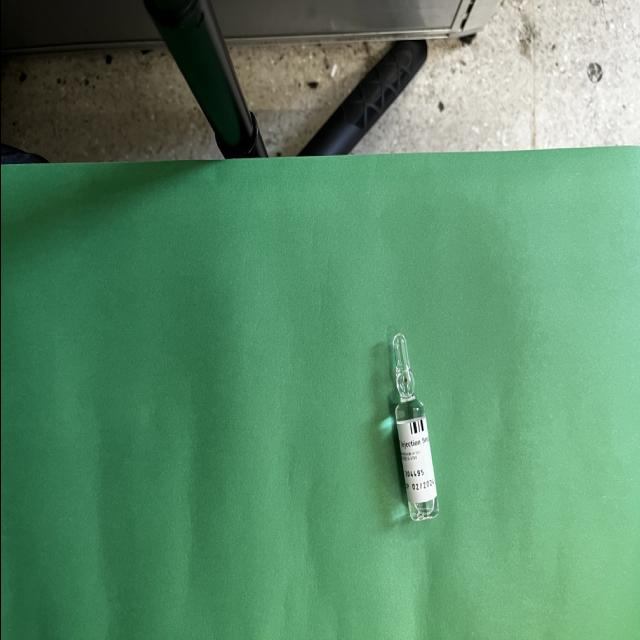Ampoules: (391, 333, 438, 520)
